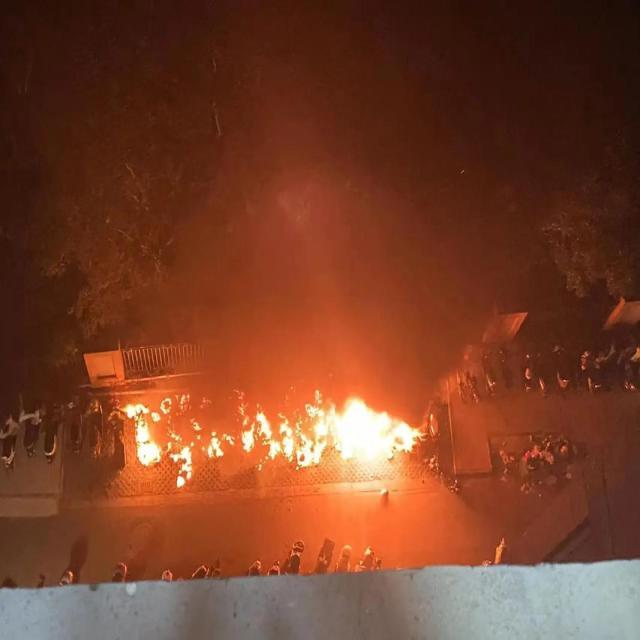Fire: (125, 388, 425, 488)
